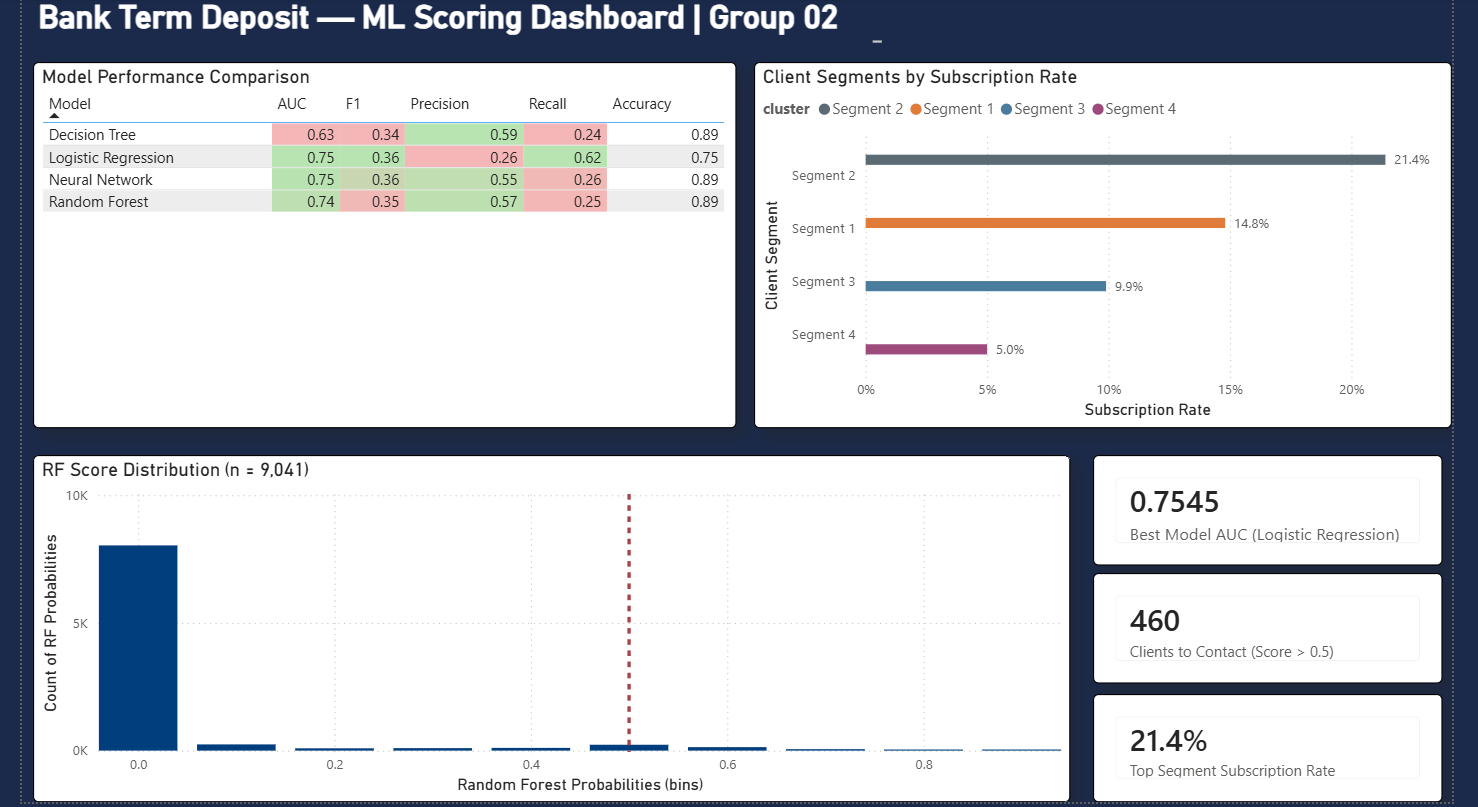

Layout of this report page (visuals, bound fields, positions):
{"tool":"powerbi","page":{"name":"Page 2","canvas":[1280,720],"ordinal":1},"visuals":[{"type":"textbox","title":"Bank Term Deposit — ML Scoring Dashboard | Group 02","box":[9.7,0,765.5,44.7],"z":0},{"type":"tableEx","title":"Model Performance Comparison","fields":{"Values":["ModelMetrics.Model","Max(ModelMetrics.AUC)","Max(ModelMetrics.F1)","Max(ModelMetrics.Precision)","Max(ModelMetrics.Recall)","Max(ModelMetrics.Accuracy)"]},"box":[9.8,57.5,630.3,327.8],"z":1000},{"type":"clusteredBarChart","title":"Client Segments by Subscription Rate","fields":{"Category":["Segments.cluster"],"Series":["Segments.cluster"],"Y":["Sum(Segments.subs_rate_pct)"]},"box":[655.4,57.5,625.4,327.8],"z":2000},{"type":"clusteredColumnChart","title":"RF Score Distribution (n = 9,041)","fields":{"Category":["ScoredClients.rf_prob (bins)"],"Y":["CountNonNull(ScoredClients.rf_prob)"]},"box":[9.9,409.3,928.7,310.7],"z":3000},{"type":"cardVisual","fields":{"Data":["Max(ModelMetrics.AUC)"]},"box":[959.1,409.3,313.4,99.4],"z":4000},{"type":"cardVisual","fields":{"Data":["ScoredClients.High Priority Clients"]},"box":[959.1,514.9,313.4,99.4],"z":5000},{"type":"cardVisual","fields":{"Data":["Max(Segments.subs_rate_pct)"]},"box":[959.1,623.3,313.4,96.7],"z":6000}]}

Visuals, with their boxes in screenshot pixels (x1, y1, x2, y2):
"Bank Term Deposit — ML Scoring Dashboard | Group 02" textbox: bbox=(34, 0, 881, 49)
"Model Performance Comparison" tableEx: bbox=(34, 64, 732, 427)
"Client Segments by Subscription Rate" clusteredBarChart: bbox=(749, 64, 1441, 427)
"RF Score Distribution (n = 9,041)" clusteredColumnChart: bbox=(34, 453, 1062, 797)
cardVisual - Max(ModelMetrics.AUC): bbox=(1085, 453, 1432, 563)
cardVisual - ScoredClients.High Priority Clients: bbox=(1085, 570, 1432, 680)
cardVisual - Max(Segments.subs_rate_pct): bbox=(1085, 690, 1432, 797)
